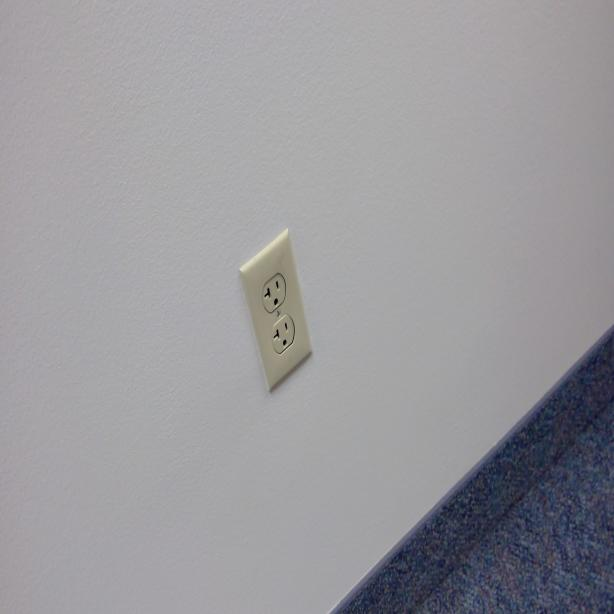typeb: (270, 314, 297, 353), (261, 274, 287, 308)
